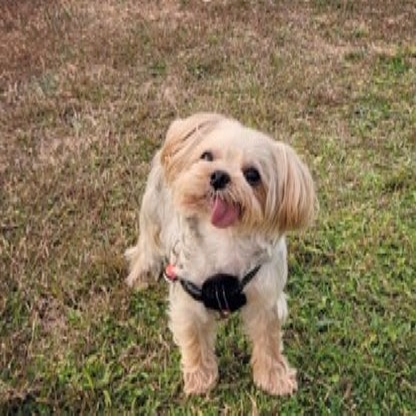yorkshire: (124, 112, 323, 396)
